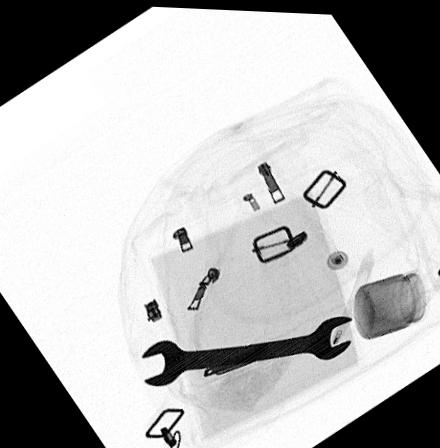Wrench: (139, 308, 356, 384)
